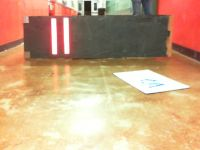switch: (63, 17, 70, 55), (51, 18, 57, 55)
